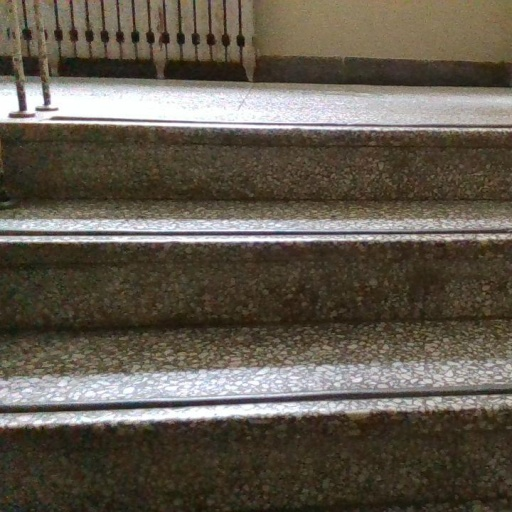Stairs: (0, 79, 512, 512)
